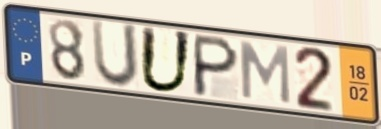2: (292, 45, 335, 115)
8: (46, 17, 88, 83)
M: (238, 39, 293, 107)
P: (190, 32, 242, 100)
U: (137, 24, 194, 95), (89, 18, 141, 92)
